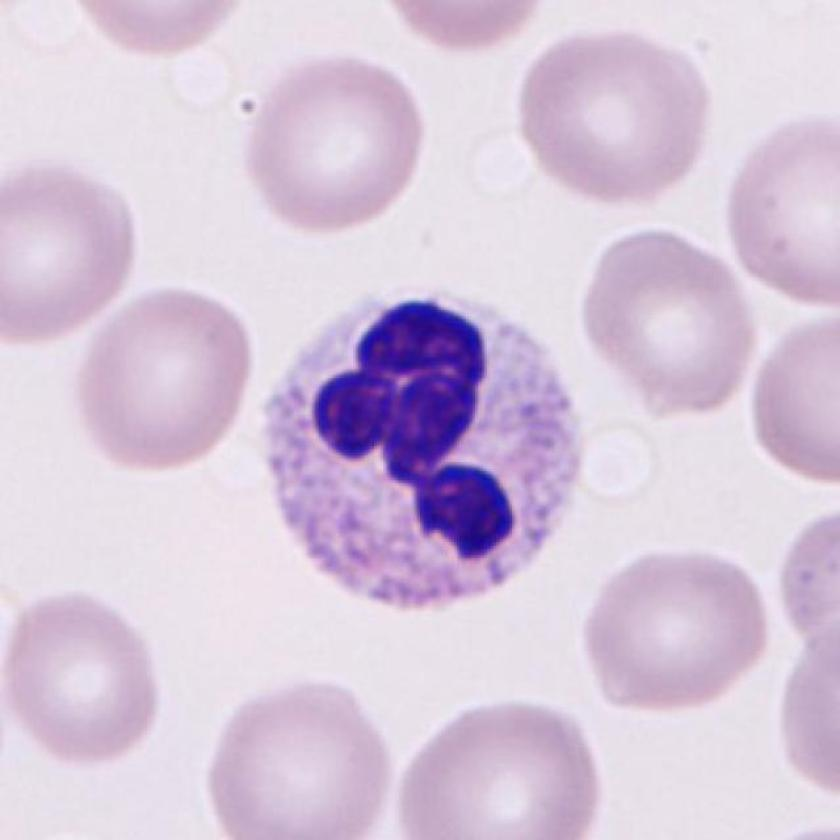neutrophil: (262, 282, 581, 613)
